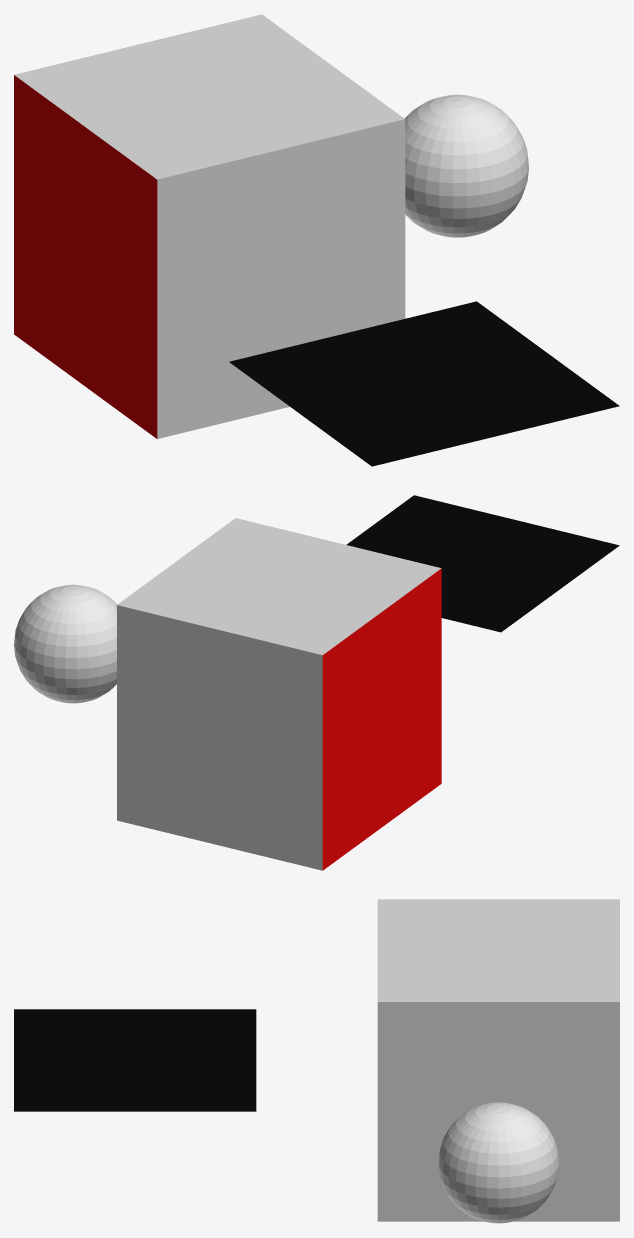
The model's file is export_spec.out_scene_rt.glb.
3 renders of one model, top to bottom at view 1: azimuth 30°, elevation 25°; view 2: azimuth 150°, elevation 25°; view 3: azimuth 270°, elevation 25°, orthographic. The views are drawn at different scales.
Visible parts, largest first — view 1: Cube, Plane, Sphere; view 2: Cube, Plane, Sphere; view 3: Cube, Plane, Sphere.
Boxes of the visible parts, <box> form: Cube: <box>14,14,405,438</box>; Plane: <box>229,301,619,466</box>; Sphere: <box>404,94,528,237</box>; Cube: <box>117,518,441,870</box>; Plane: <box>346,495,619,632</box>; Sphere: <box>14,584,116,703</box>; Cube: <box>377,899,619,1221</box>; Plane: <box>14,1009,256,1111</box>; Sphere: <box>438,1102,559,1223</box>.
Bounding box in the file's own units: 3.5 × 2 × 5.
3 materials, 1 textured.
